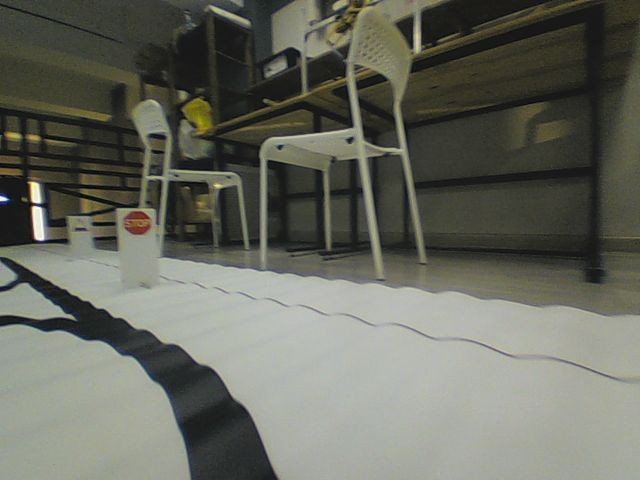Stop: (122, 208, 152, 237)
